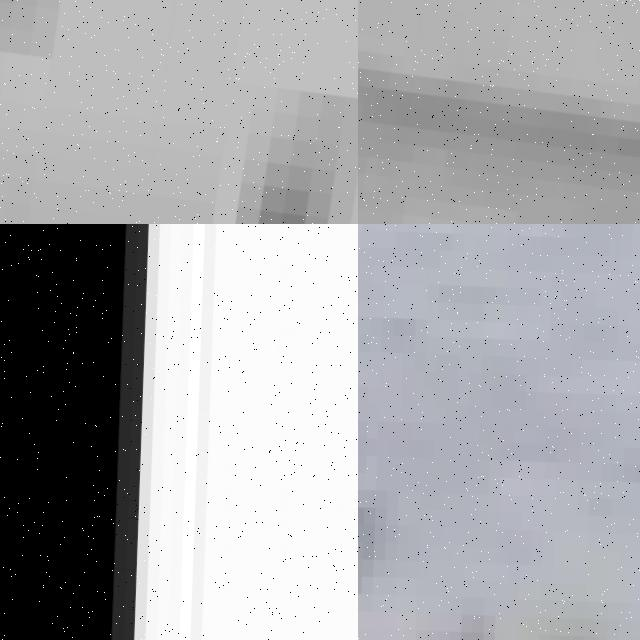0: (0, 0, 358, 224)
drone: (358, 0, 640, 224)
